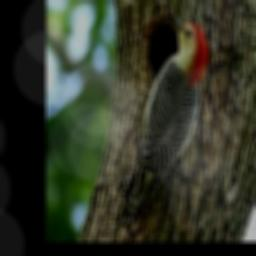Woodpecker: (113, 12, 208, 235)
